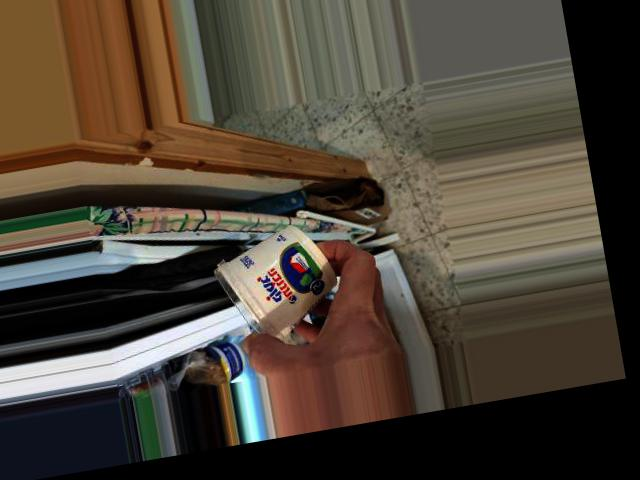cotage: (205, 222, 339, 343)
